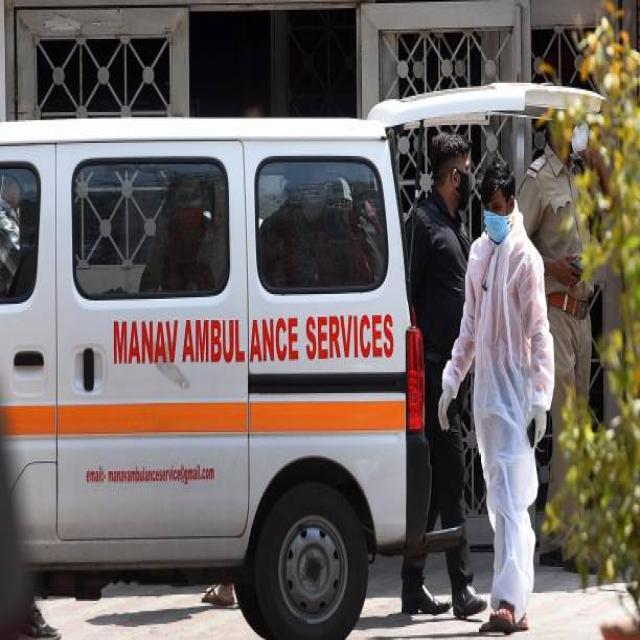ambulance: (0, 117, 419, 637)
